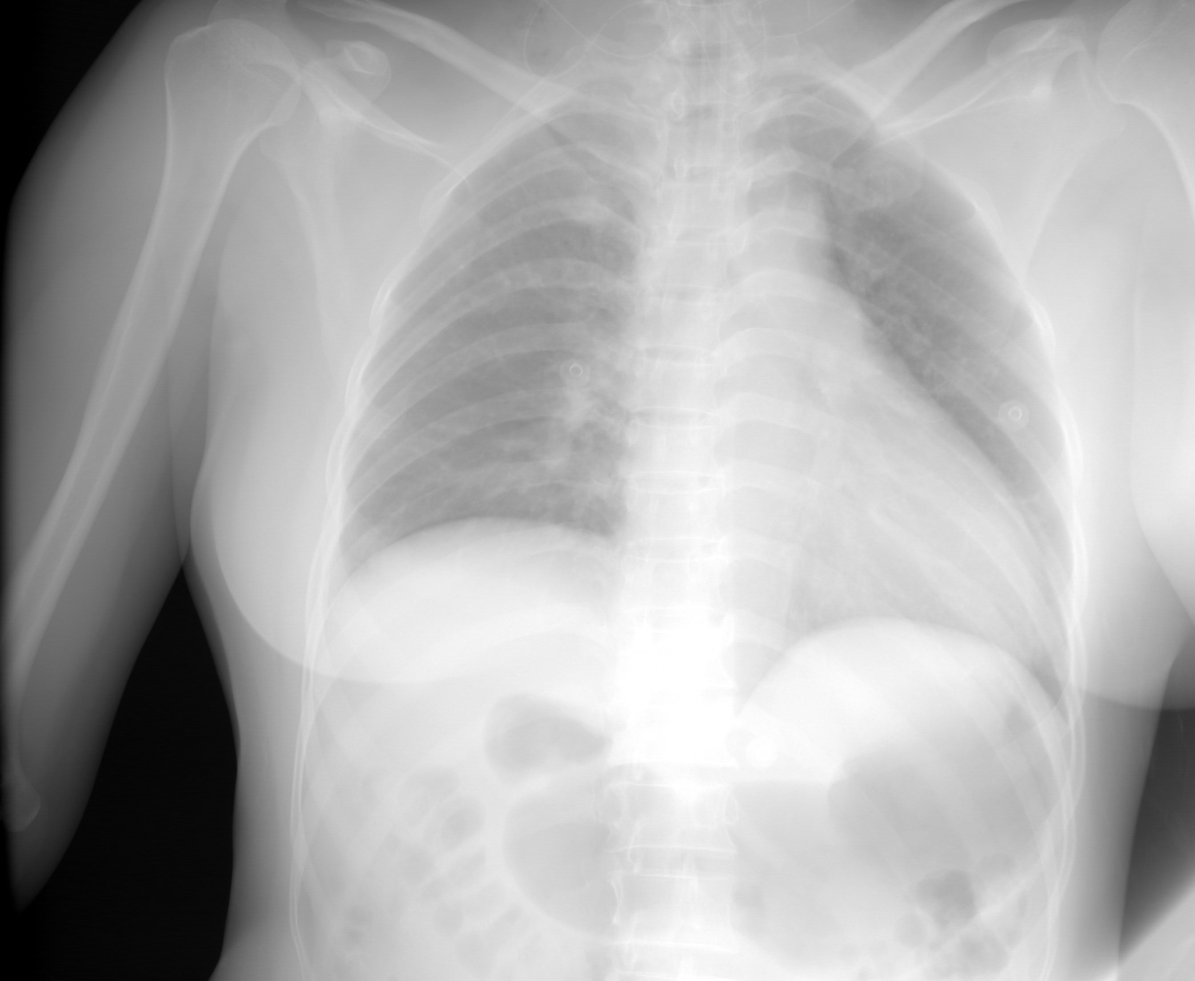Cardiomegaly: (614, 448, 1031, 642)
